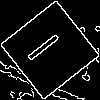I: (25, 25, 70, 64)
